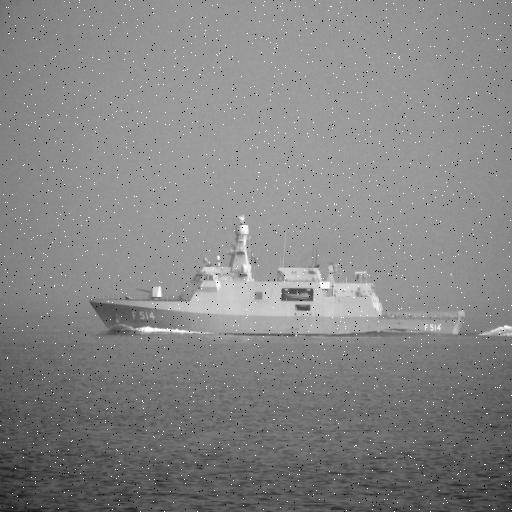Fragata: (86, 211, 467, 344)
